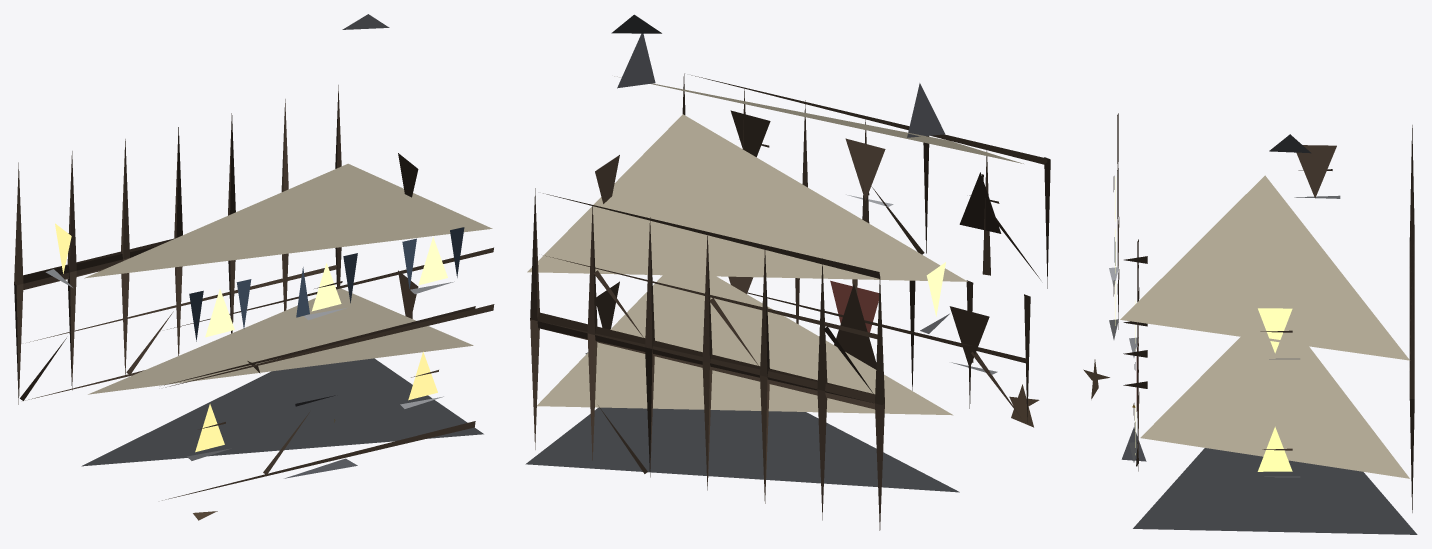
The model's file is bree_house_timber_1_lod2.glb.
3 renders of one model, left to right at view 1: azimuth 30°, elevation 25°; view 2: azimuth 150°, elevation 25°; view 3: azimuth 270°, elevation 25°, orthographic. The views are drawn at different scales.
Parts seen in each view (by area): view 1: bree_house_timber_1_lod2; view 2: bree_house_timber_1_lod2; view 3: bree_house_timber_1_lod2.
Part boxes in pixels (box(x1,y1,x2,y2)): bree_house_timber_1_lod2: box(14, 14, 494, 520); bree_house_timber_1_lod2: box(525, 14, 1050, 530); bree_house_timber_1_lod2: box(1083, 113, 1417, 534).
Bounding box in the file's own units: 8.2 × 8.45 × 6.77.
